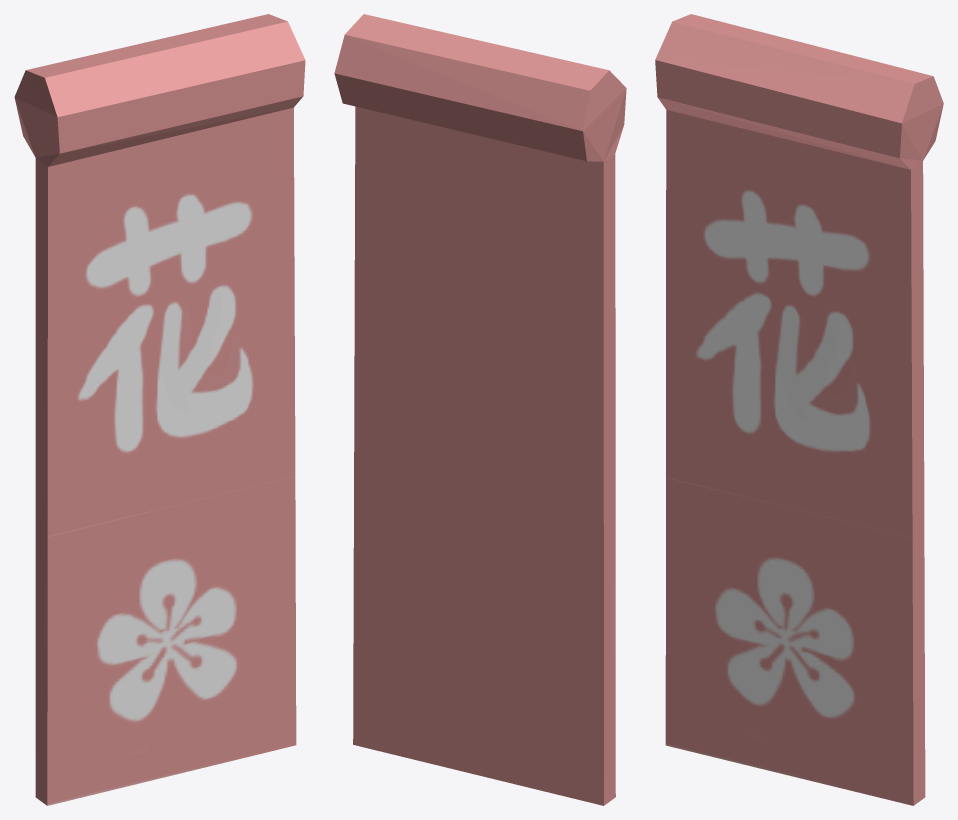
File: MarketStall_Flag_Flower.gltf
3 views of the same model, side by side, from view 1: azimuth 30°, elevation 25°; view 2: azimuth 150°, elevation 25°; view 3: azimuth 330°, elevation 25° (orthographic).
Visible parts, largest first — view 1: MarketStall_Flag_Flower; view 2: MarketStall_Flag_Flower; view 3: MarketStall_Flag_Flower.
Part boxes in pixels (bbox=[...]): MarketStall_Flag_Flower: bbox=[14, 14, 305, 805]; MarketStall_Flag_Flower: bbox=[334, 14, 626, 805]; MarketStall_Flag_Flower: bbox=[655, 14, 943, 805].
Bounding box in the file's own units: 0.3827 × 1.06 × 0.1149.
1 material, 1 textured.
